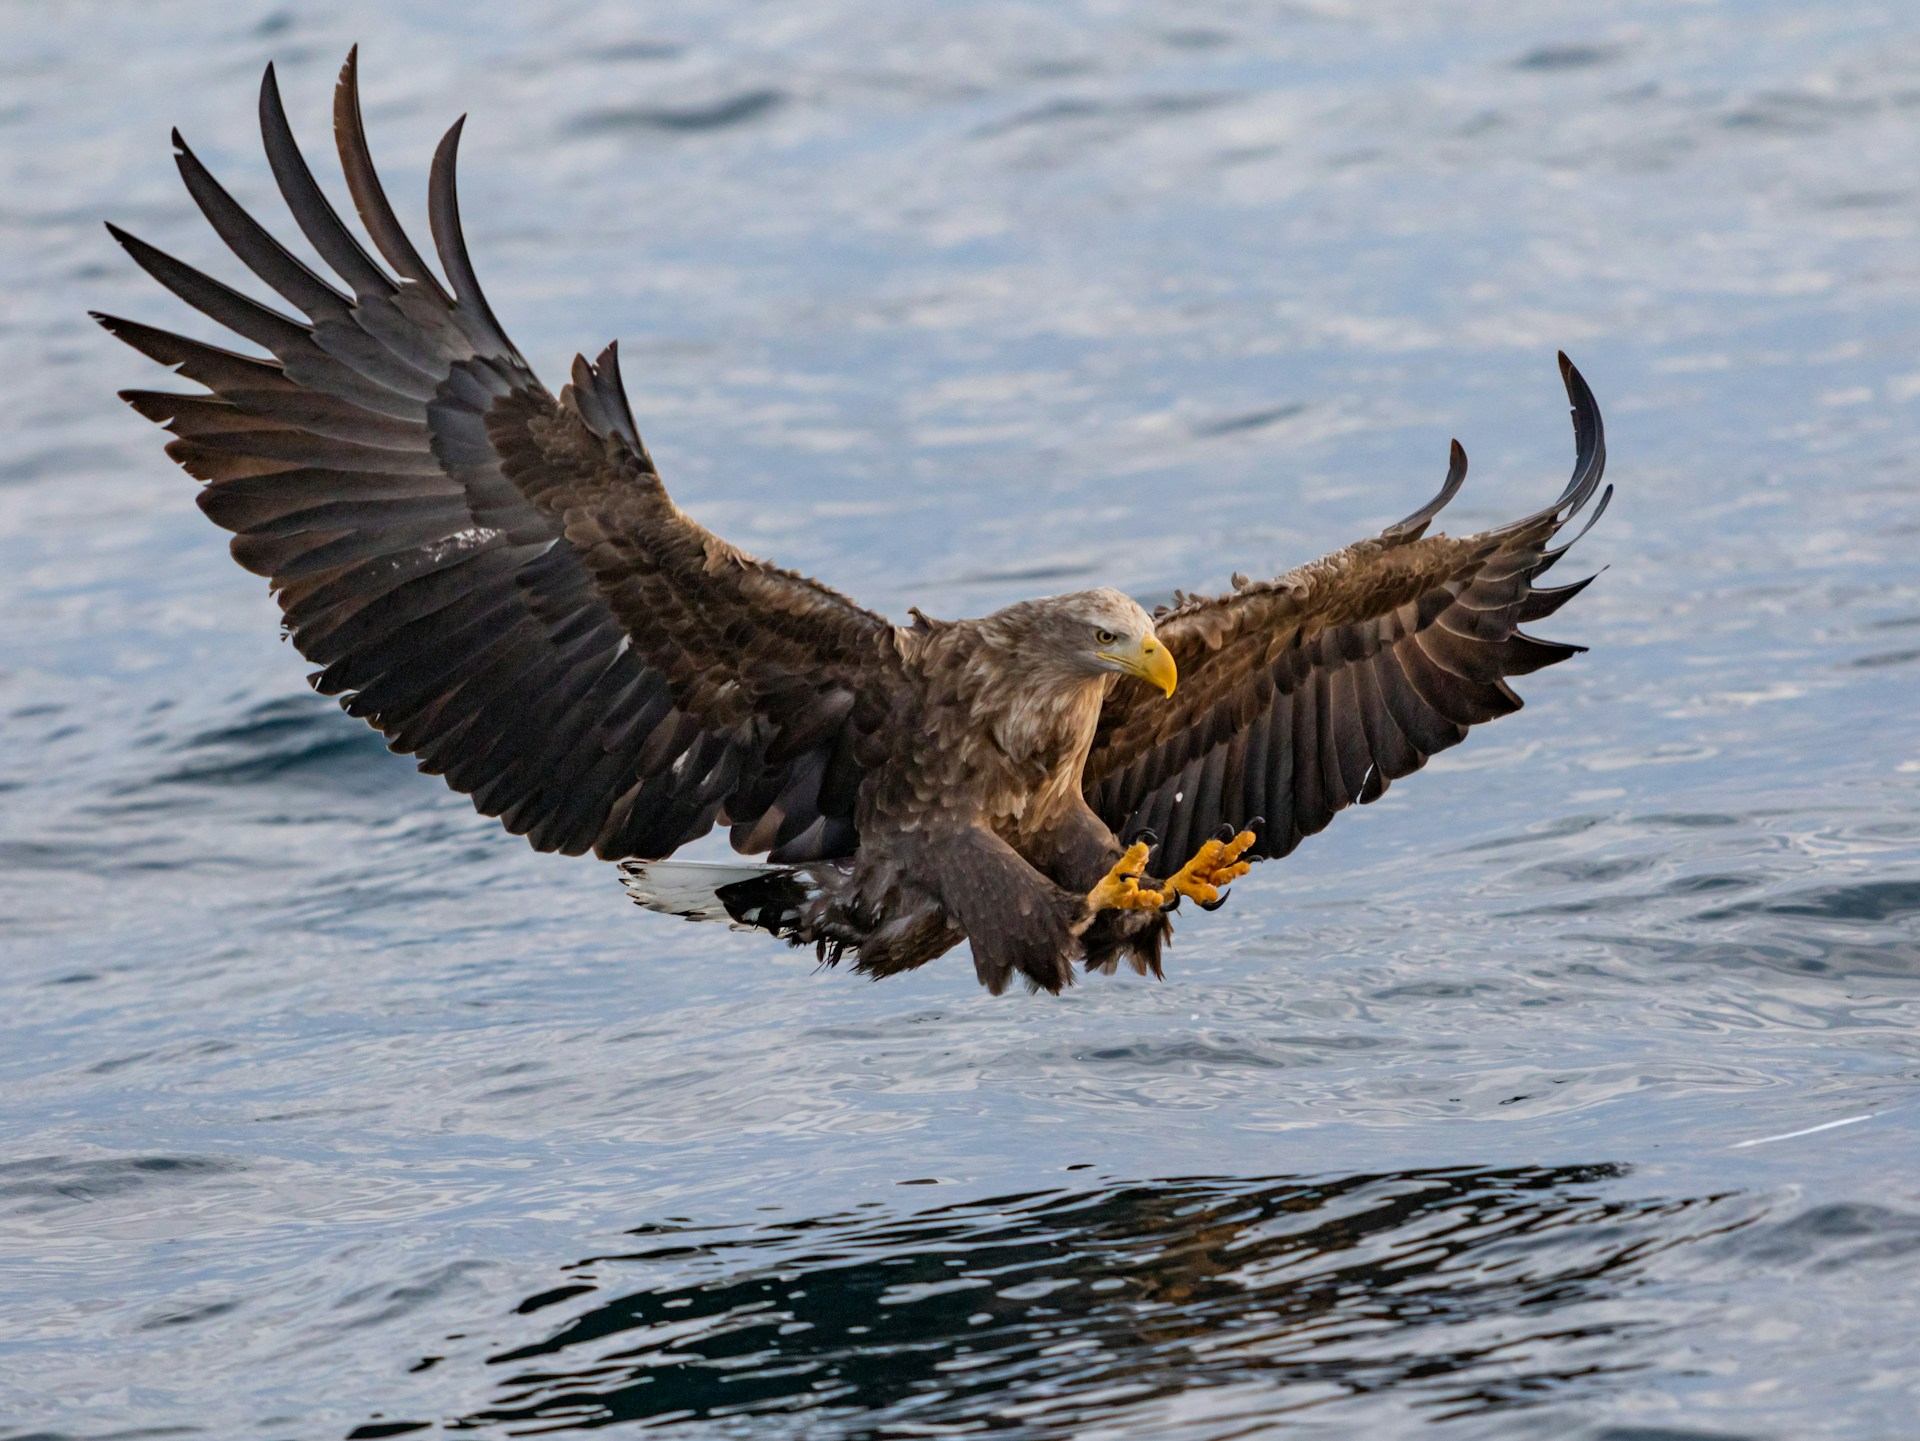eagle: (73, 32, 1648, 1010)
